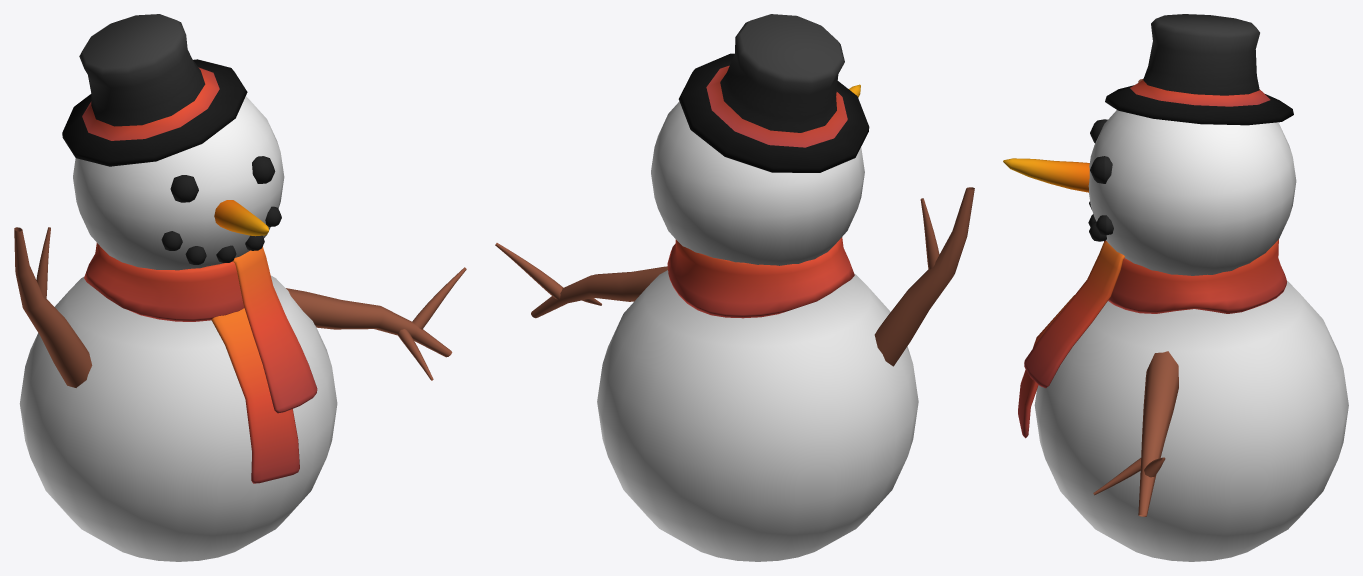
The model's file is Snowman_01.fbx.
The picture shows the model from 3 angles, left to right: view 1: azimuth 30°, elevation 25°; view 2: azimuth 150°, elevation 25°; view 3: azimuth 270°, elevation 25°; orthographic projection. The views are drawn at different scales.
Parts seen in each view (by area): view 1: Snowman_01; view 2: Snowman_01; view 3: Snowman_01.
Part boxes in pixels (x1=…): Snowman_01: x1=14, y1=14, x2=466, y2=561; Snowman_01: x1=495, y1=14, x2=974, y2=561; Snowman_01: x1=1003, y1=14, x2=1348, y2=561.
Size of the model in its own units: 124 by 134 by 81.04.
